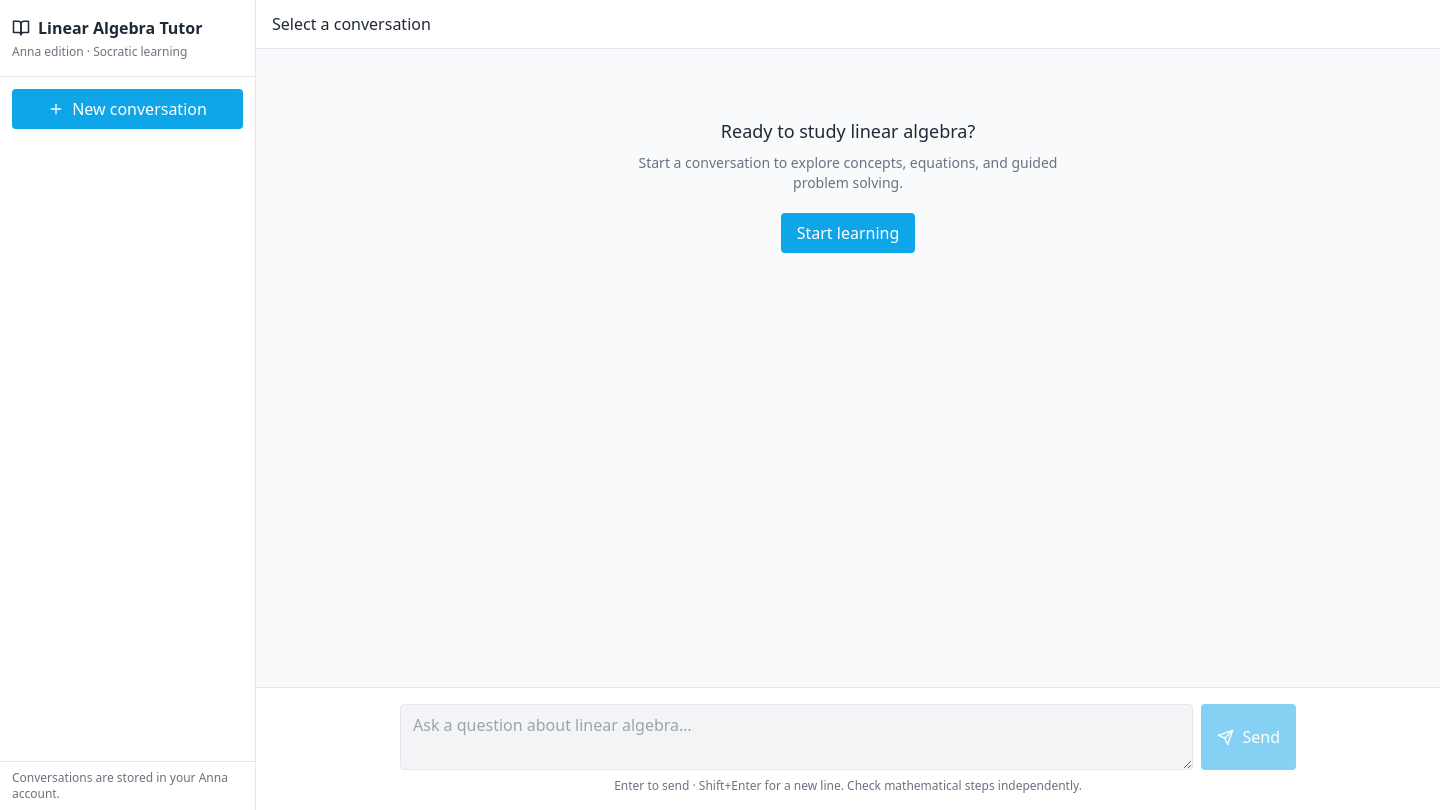
it: Anna tutoring window › announces new student and tutor messages through an accessible conversation log
Click the button "Start learning": {"x": 848, "y": 233} [781,213,915,253]
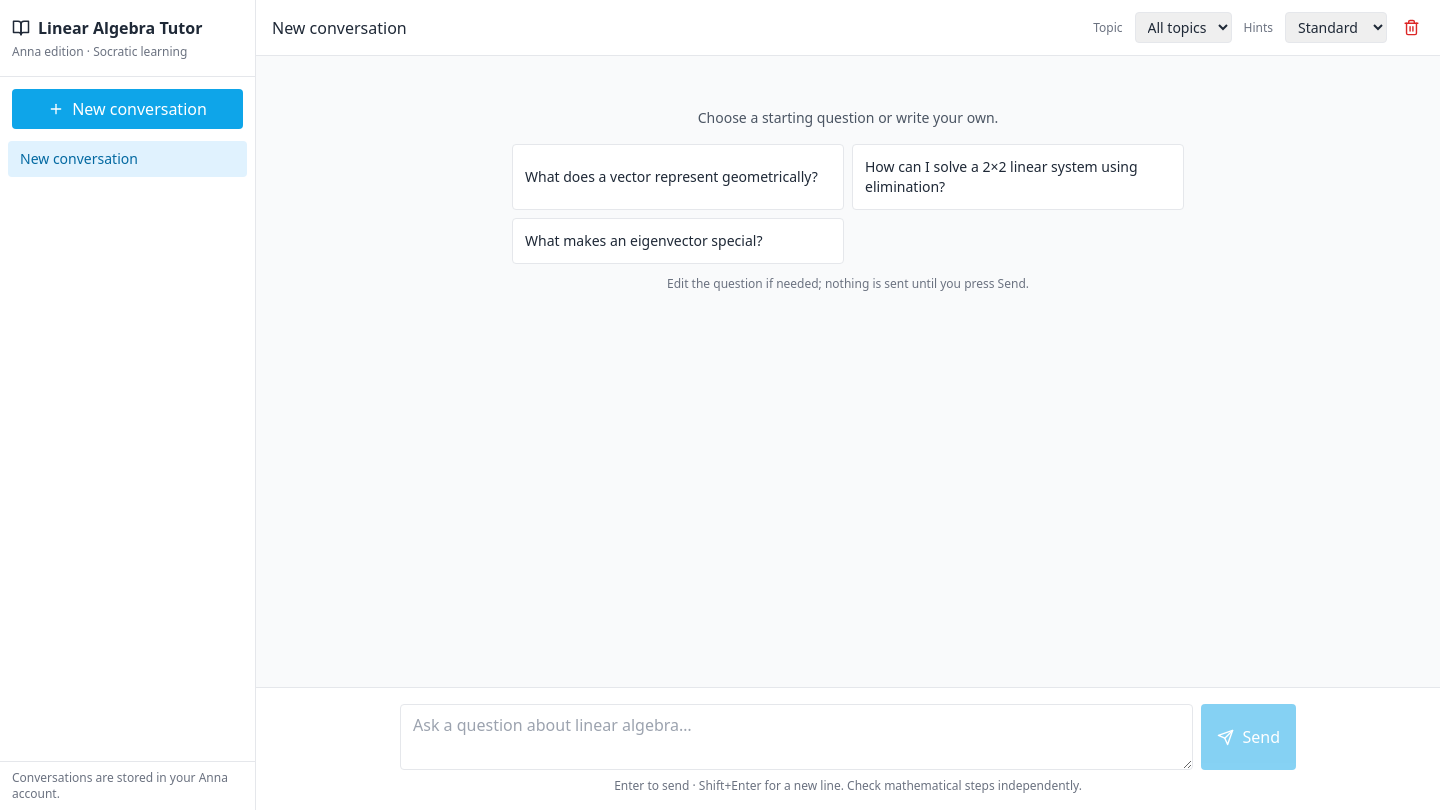
In the text box named "Ask a linear algebra question": {"x": 797, "y": 737} [400,704,1194,770], type "How can I calculate vector magnitude?"
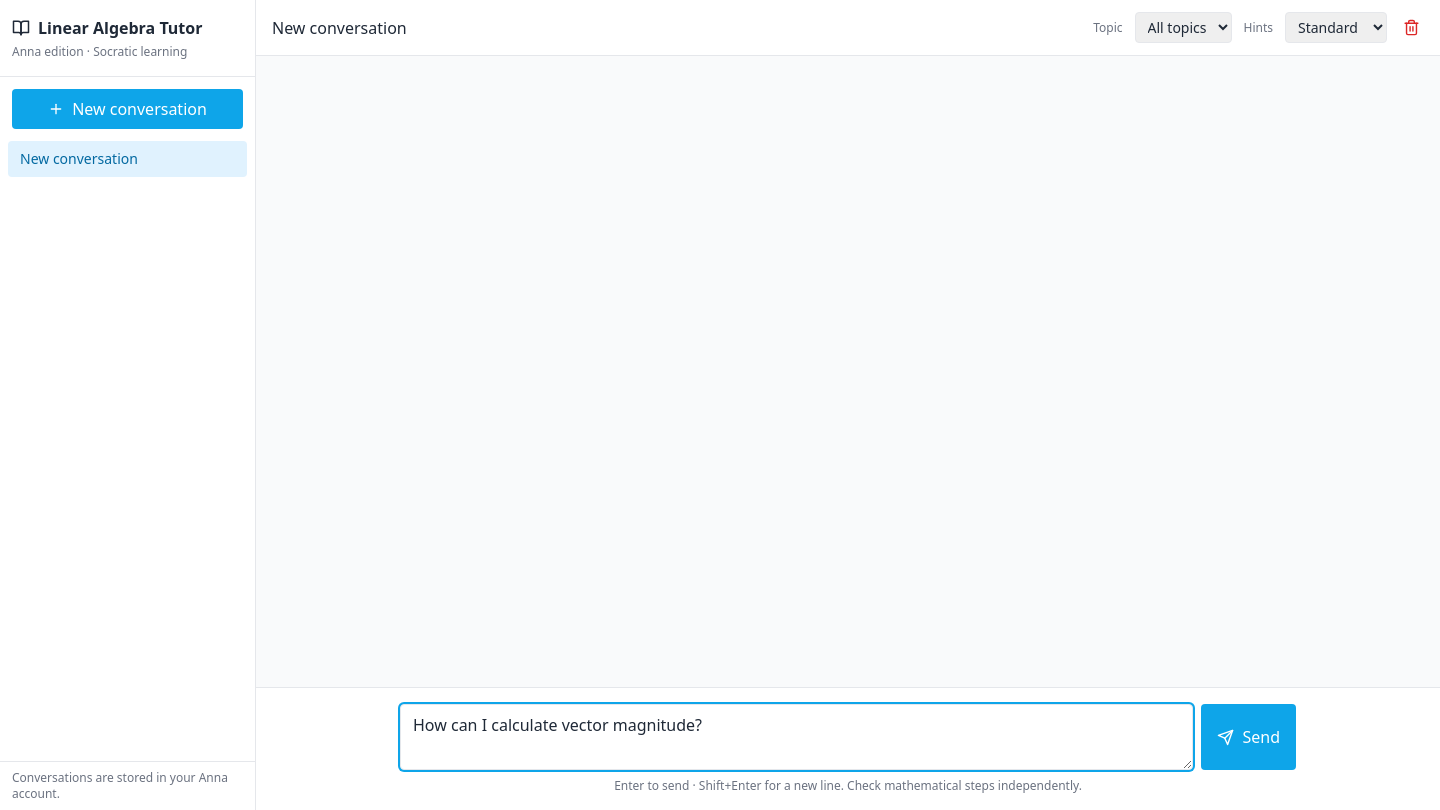
Click the button "Send": {"x": 1249, "y": 737} [1202,704,1296,770]
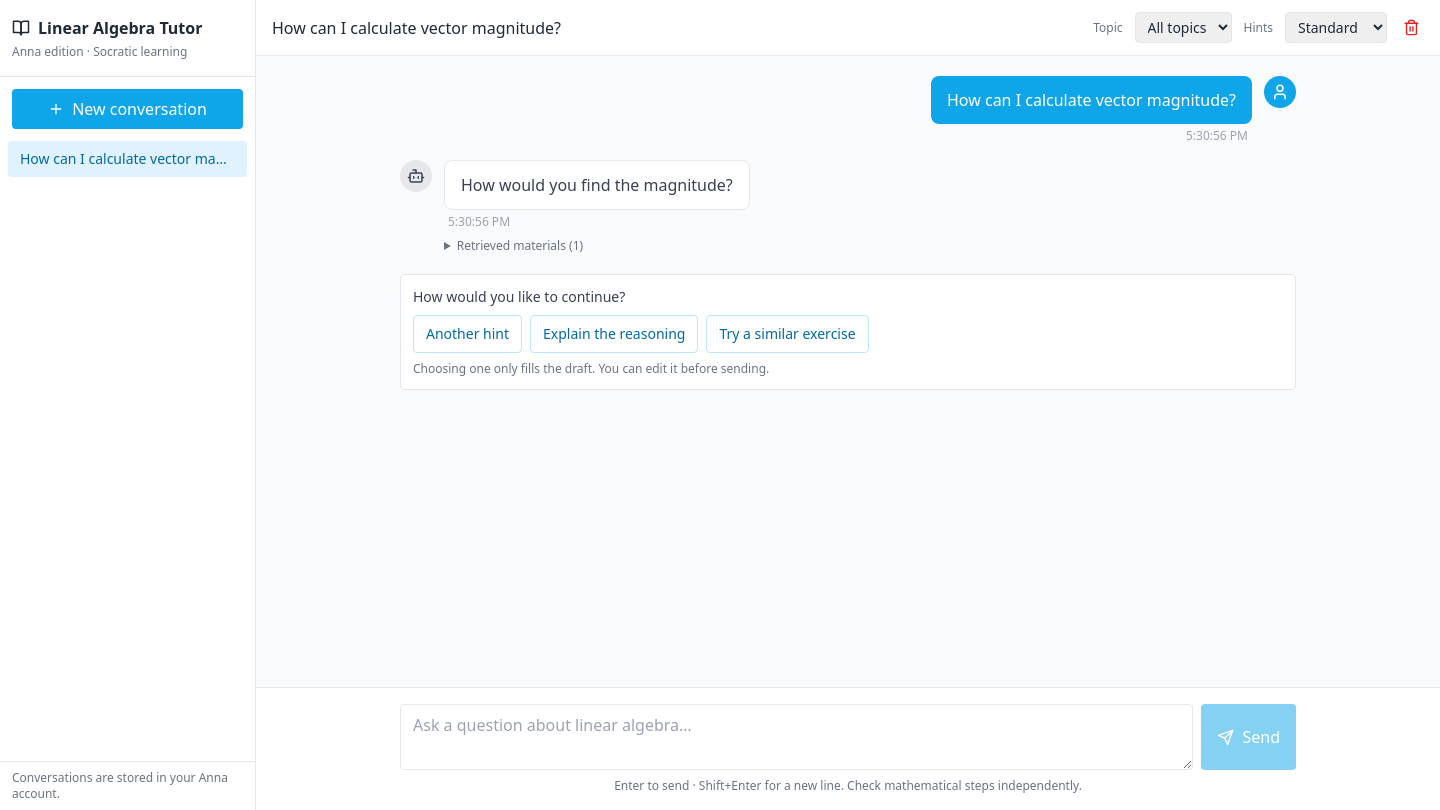
Check: the text "How would you find the magnitude?" is shown, box [461,173,733,197]
Check: the text "How can I calculate vector magnitude?" is shown, box [947,88,1236,112]
